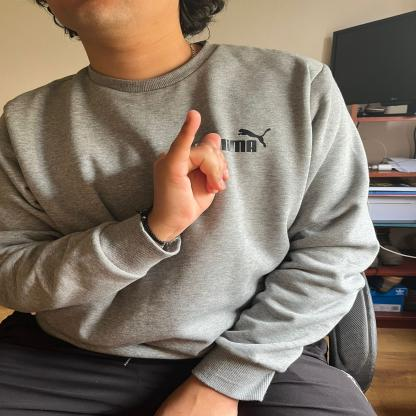I: (148, 105, 232, 230)
